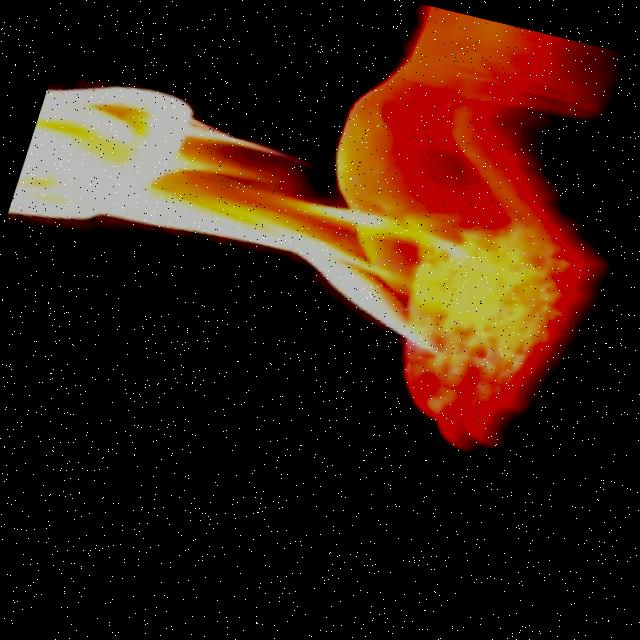Fire: (0, 49, 536, 369)
